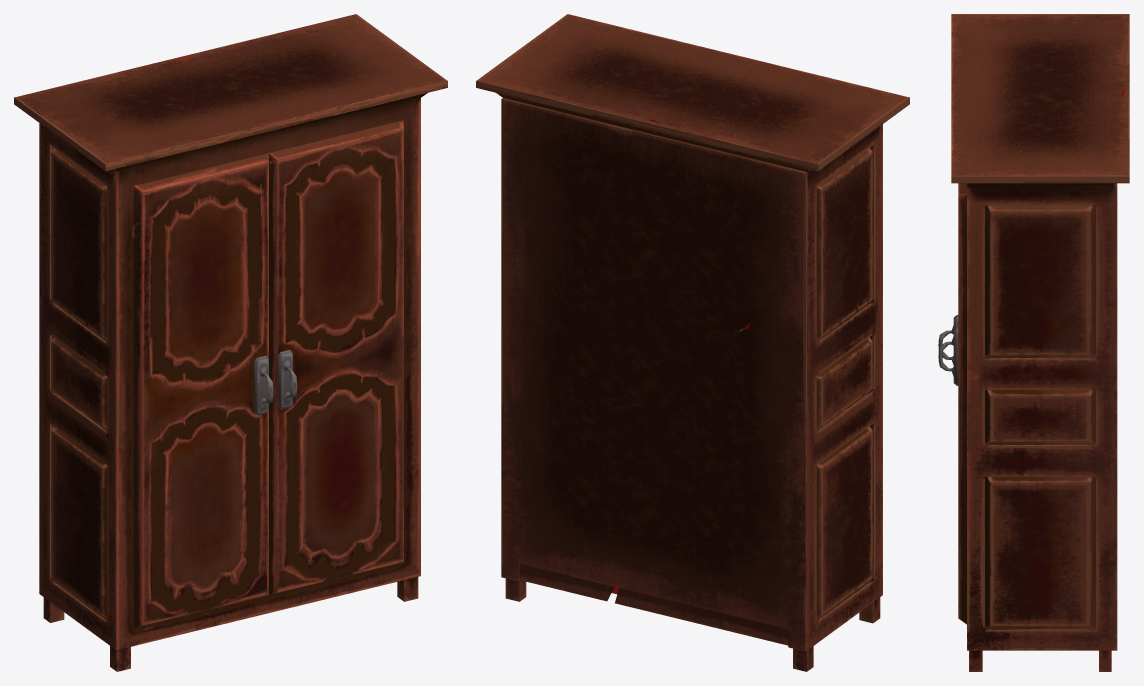
File: armoire_shatter.fbx
3 renders of one model, left to right at view 1: azimuth 30°, elevation 25°; view 2: azimuth 150°, elevation 25°; view 3: azimuth 270°, elevation 25°, orthographic. The views are drawn at different scales.
Visible parts, largest first — view 1: Pieces_8_1, Pieces_3, Pieces_4, Pieces_9, Pieces_12, Pieces_10, Pieces_2, Pieces_11, Booléen, Booléen_2, Pieces_1; view 2: Pieces_9, Pieces_3, Pieces_6, Pieces_11, Pieces_1, Pieces_5_1, Pieces_12, Pieces_8_1, Pieces_4, Pieces_8; view 3: Pieces_12, Pieces_3, Pieces_6, Pieces_1, Pieces_2, Pieces_11, Booléen_2, Pieces_4.
Part boxes in pixels (x1,y1,x2,y2): Pieces_8_1: [85, 287, 295, 671]; Pieces_3: [58, 14, 447, 185]; Pieces_4: [82, 147, 393, 351]; Pieces_9: [39, 225, 164, 627]; Pieces_12: [255, 123, 420, 472]; Pieces_10: [217, 325, 388, 606]; Pieces_2: [297, 382, 420, 578]; Pieces_11: [14, 60, 185, 243]; Booléen: [254, 355, 273, 415]; Booléen_2: [278, 350, 297, 409]; Pieces_1: [382, 569, 418, 601]; Pieces_9: [638, 198, 882, 671]; Pieces_3: [476, 14, 896, 208]; Pieces_6: [501, 191, 670, 502]; Pieces_11: [655, 120, 863, 330]; Pieces_1: [501, 328, 747, 601]; Pieces_5_1: [590, 143, 739, 379]; Pieces_12: [501, 118, 569, 274]; Pieces_8_1: [850, 376, 882, 623]; Pieces_4: [840, 80, 909, 220]; Pieces_8: [615, 544, 673, 617]; Pieces_12: [958, 203, 1117, 565]; Pieces_3: [951, 14, 1129, 221]; Pieces_6: [1035, 356, 1117, 578]; Pieces_1: [969, 564, 1117, 671]; Pieces_2: [958, 519, 1047, 652]; Pieces_11: [1043, 14, 1129, 96]; Booléen_2: [938, 326, 958, 385]; Pieces_4: [951, 14, 975, 46].
Size of the model in its own units: 61.93 by 89.75 by 30.77.
